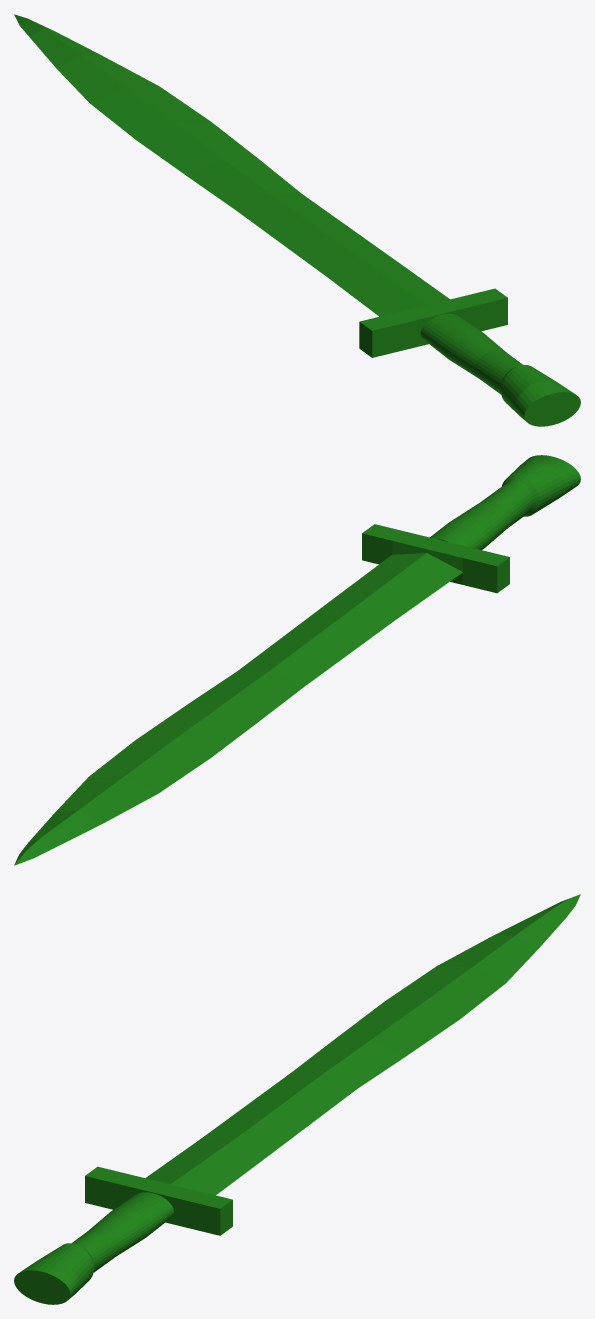
Rendered from Sword.obj.
3 renders of one model, top to bottom at view 1: azimuth 30°, elevation 25°; view 2: azimuth 150°, elevation 25°; view 3: azimuth 330°, elevation 25°, orthographic.
Visible parts, largest first — view 1: default; view 2: default; view 3: default.
Part boxes in pixels (x1,y1,x2,y2): default: (14, 14, 580, 426); default: (14, 455, 580, 865); default: (14, 894, 580, 1304).
Bounding box in the file's own units: 5.03 × 1.45 × 34.61.
